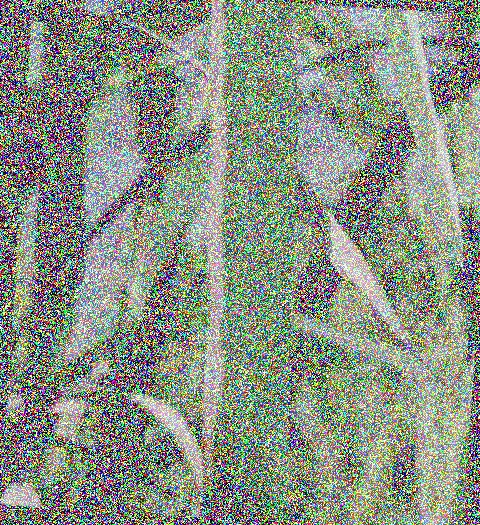Leaf_Blast: (194, 0, 235, 507)
